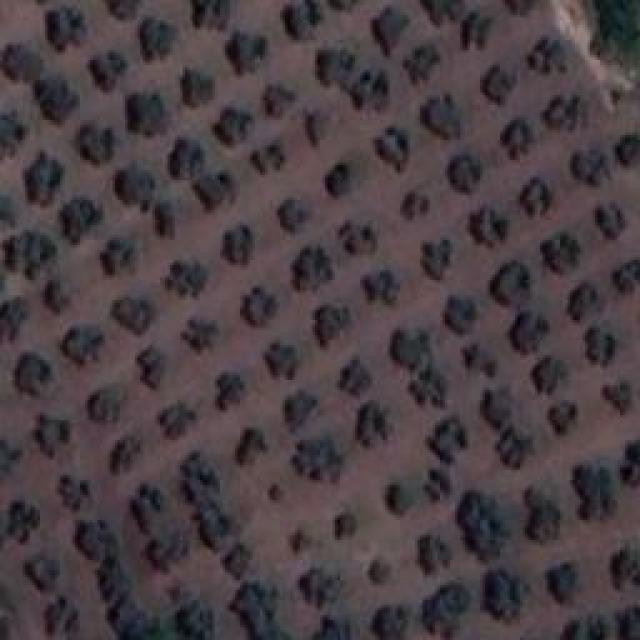Tree: (592, 0, 640, 78), (458, 495, 510, 561), (420, 580, 473, 639), (162, 587, 218, 640), (230, 590, 285, 640), (480, 560, 526, 616), (285, 433, 343, 477), (188, 500, 236, 552), (25, 78, 80, 123), (445, 150, 493, 200), (218, 25, 266, 74), (573, 465, 626, 507), (73, 515, 120, 559), (45, 5, 89, 51), (25, 150, 69, 196), (520, 490, 566, 534), (308, 300, 355, 343), (582, 318, 621, 369), (85, 383, 128, 429), (20, 548, 62, 595), (525, 35, 569, 79), (110, 597, 155, 640), (350, 75, 392, 121), (497, 115, 535, 165), (292, 253, 335, 297), (545, 90, 589, 133), (428, 415, 473, 457), (123, 87, 169, 128), (0, 42, 45, 83), (277, 0, 322, 41), (172, 451, 214, 494), (412, 530, 453, 574), (335, 217, 381, 256), (125, 480, 167, 522), (530, 355, 571, 398), (147, 527, 190, 568), (57, 195, 101, 235), (232, 422, 272, 466), (60, 327, 106, 365), (537, 232, 577, 275), (387, 330, 427, 373), (42, 600, 85, 640), (95, 557, 138, 597), (133, 20, 178, 58), (337, 353, 375, 398), (567, 278, 605, 323), (312, 47, 352, 89), (77, 120, 116, 163), (503, 310, 547, 348), (257, 82, 295, 125), (295, 565, 343, 599), (480, 387, 517, 431), (493, 268, 538, 304), (190, 0, 239, 33), (97, 235, 138, 274), (287, 392, 326, 433), (7, 232, 49, 270), (471, 205, 508, 248), (360, 262, 397, 305), (168, 255, 208, 294), (373, 7, 410, 49), (405, 45, 442, 87), (238, 280, 274, 323), (308, 610, 359, 640), (17, 350, 55, 390), (153, 405, 198, 438), (367, 125, 406, 163), (370, 598, 410, 635), (378, 480, 414, 521), (8, 498, 40, 544), (480, 62, 518, 100), (422, 237, 460, 275), (105, 442, 143, 480), (253, 135, 286, 178), (610, 545, 640, 592), (192, 175, 236, 207), (262, 343, 300, 380), (168, 138, 208, 173), (113, 162, 148, 202), (443, 292, 476, 334), (107, 298, 150, 330), (426, 95, 458, 138), (33, 420, 67, 460), (138, 345, 170, 387), (300, 108, 337, 144), (275, 198, 311, 235), (593, 200, 630, 236), (147, 205, 185, 240), (178, 65, 212, 104), (365, 553, 405, 586), (493, 430, 528, 467), (205, 371, 244, 404), (218, 105, 252, 142), (391, 188, 424, 225), (548, 558, 581, 595), (37, 278, 75, 310), (607, 255, 639, 293), (355, 407, 387, 445), (600, 383, 639, 414), (425, 0, 471, 26), (218, 223, 253, 257), (165, 573, 200, 607), (523, 175, 555, 212), (462, 348, 500, 379), (220, 545, 250, 584), (55, 478, 90, 511), (293, 523, 324, 560), (0, 290, 27, 332), (88, 55, 122, 88), (568, 150, 601, 184), (562, 615, 605, 640), (323, 163, 352, 200), (612, 602, 640, 640), (420, 470, 455, 499), (415, 368, 443, 404), (610, 133, 640, 166), (328, 508, 356, 542), (0, 115, 23, 156), (185, 314, 212, 348), (553, 398, 584, 425), (0, 428, 19, 472), (458, 13, 485, 42), (103, 0, 139, 19), (0, 200, 18, 232), (265, 480, 286, 500)
